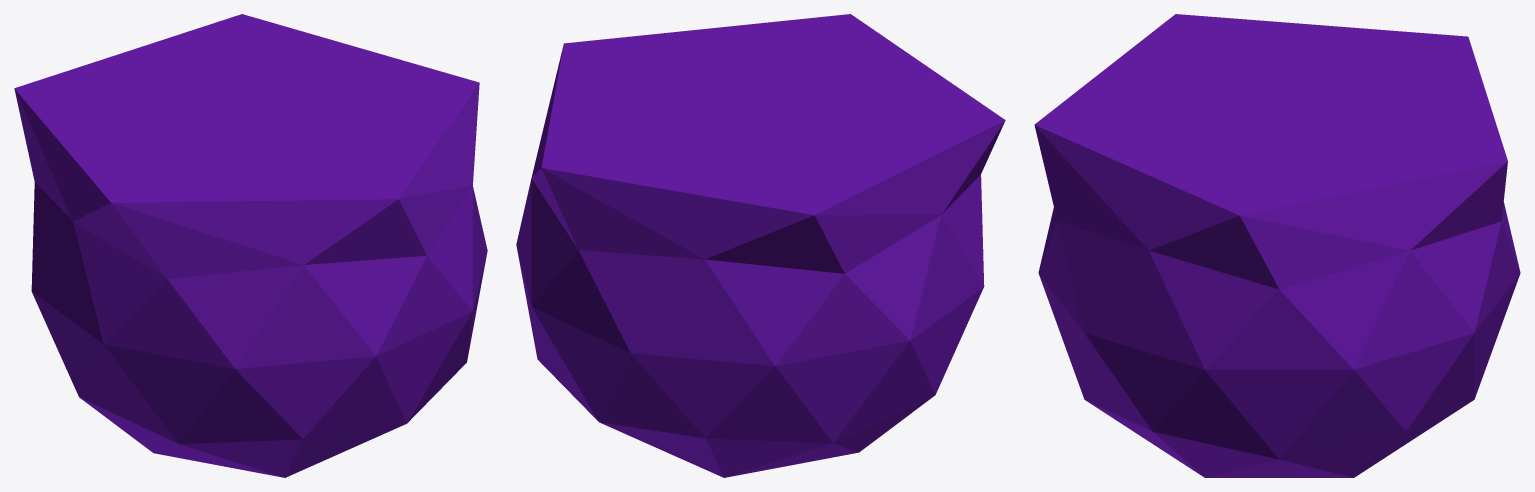
The model's file is LavaBubble_2.fbx.
3 renders of one model, left to right at view 1: azimuth 30°, elevation 25°; view 2: azimuth 150°, elevation 25°; view 3: azimuth 270°, elevation 25°, orthographic. The views are drawn at different scales.
Visible parts, largest first — view 1: LavaBubble_2; view 2: LavaBubble_2; view 3: LavaBubble_2.
Boxes of the visible parts, <box> form: LavaBubble_2: <box>14,14,487,477</box>; LavaBubble_2: <box>516,14,1005,477</box>; LavaBubble_2: <box>1034,14,1520,477</box>.
Bounding box in the file's own units: 328 × 264 × 334.
